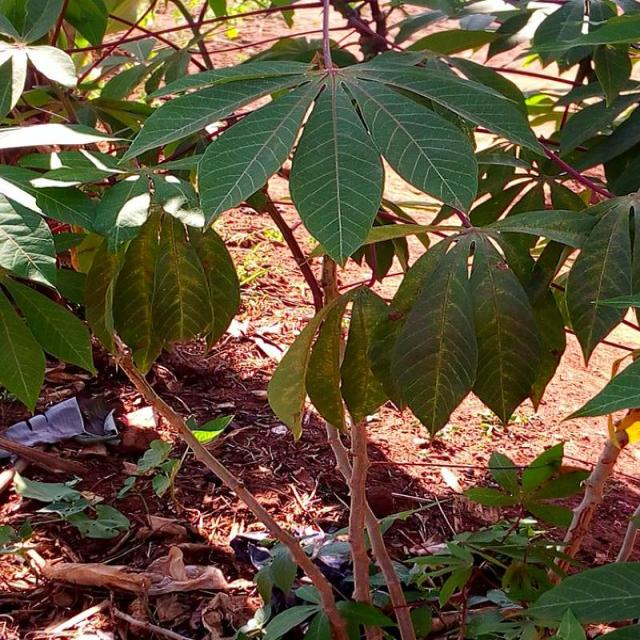cassava leaf: (197, 74, 327, 232), (289, 72, 386, 268), (390, 234, 480, 438)
